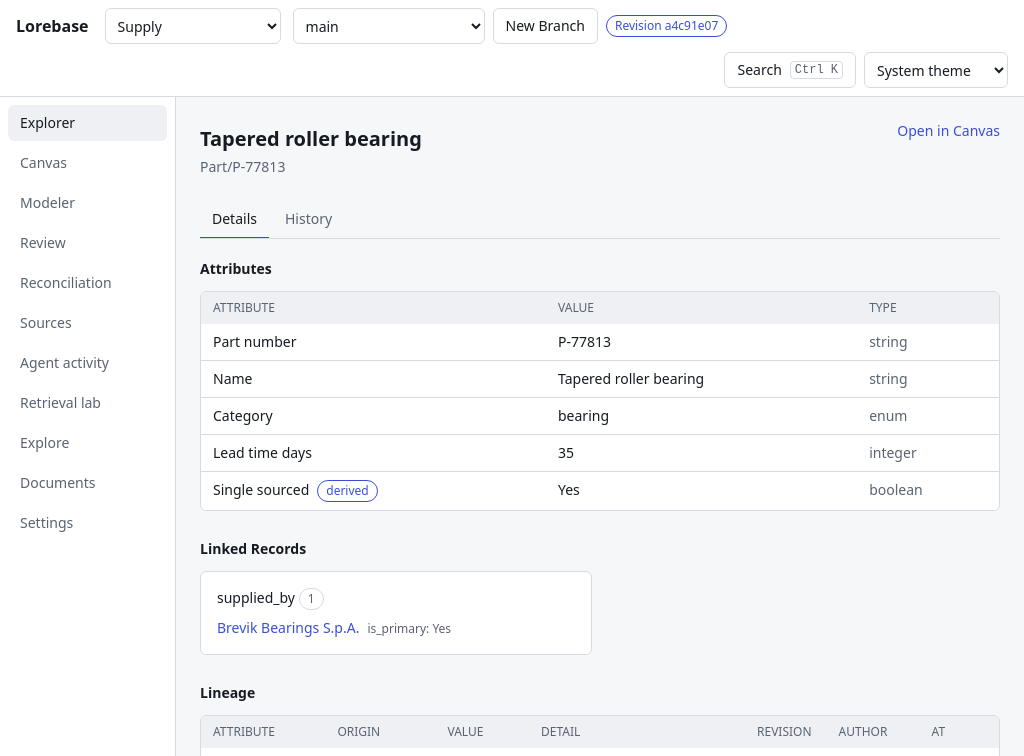
Test: Explorer › lists the changes in the History tab and loads more through the cursor
Click the tab "History" at point(309, 220), box 273,201 -> 344,239
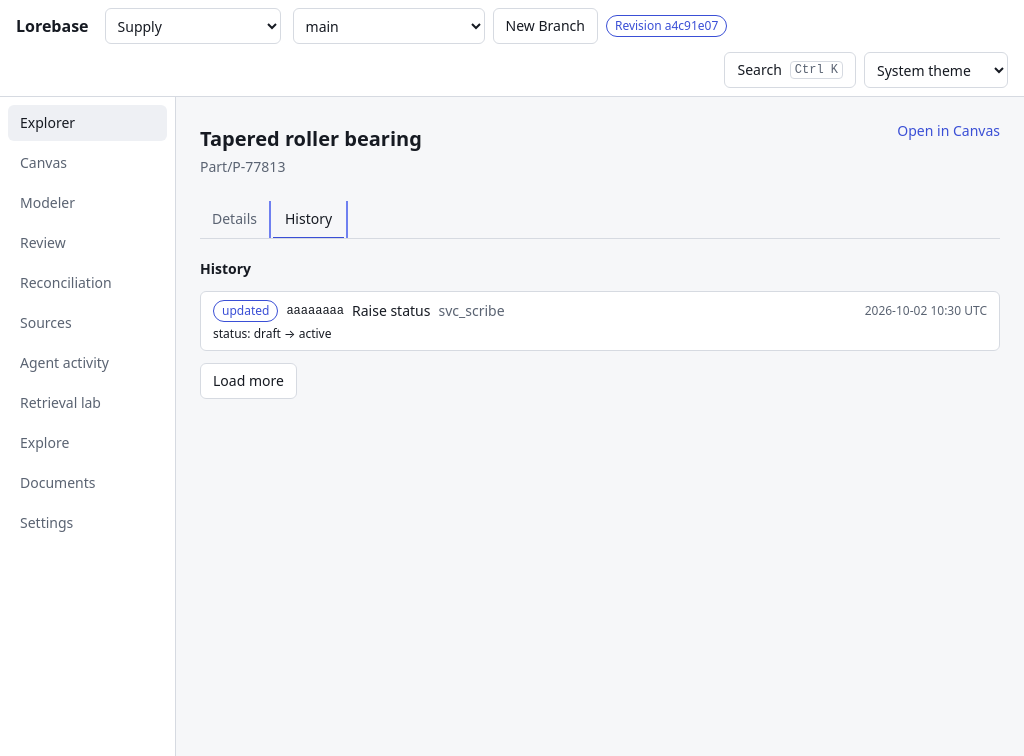
Now the list named "Changes, newest first" shows "updated", box 222,302 -> 269,319
Now the list named "Changes, newest first" shows "aaaaaaaa", box 286,304 -> 344,318
Now the list named "Changes, newest first" shows "Raise status", box 352,301 -> 430,320
Click the button "Load more" at point(248, 381), box 200,363 -> 297,399
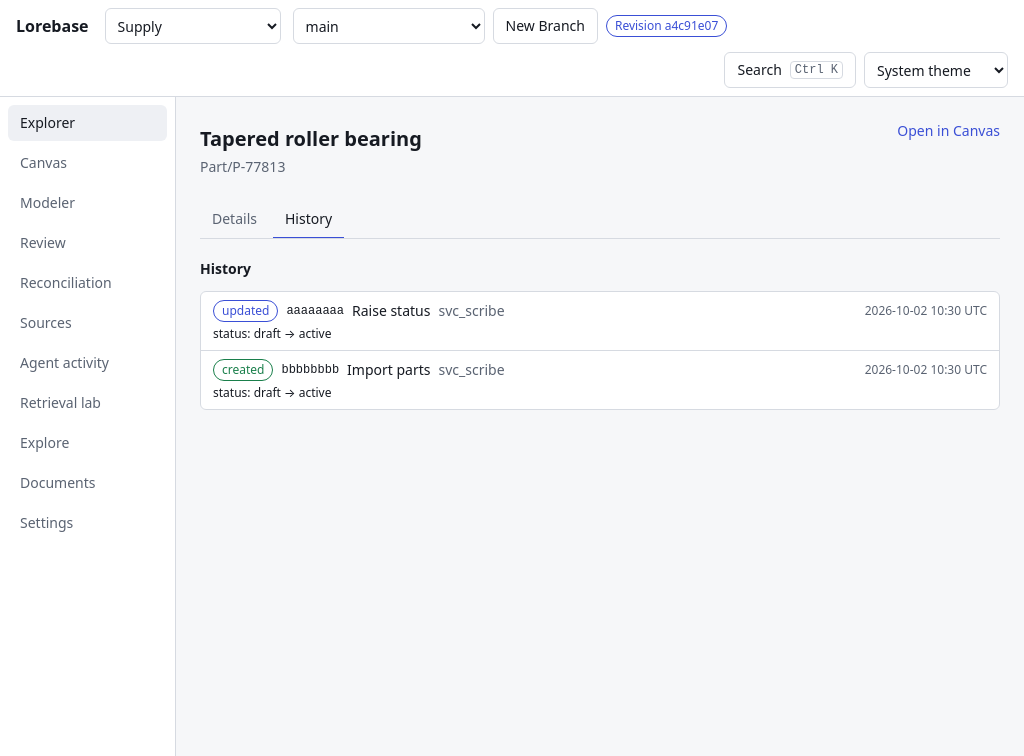
Now the text "Raise status" is shown, box 352,301 -> 430,321
Now the text "Import parts" is shown, box 347,360 -> 430,380
Now the text "created" is shown, box 213,359 -> 274,381
